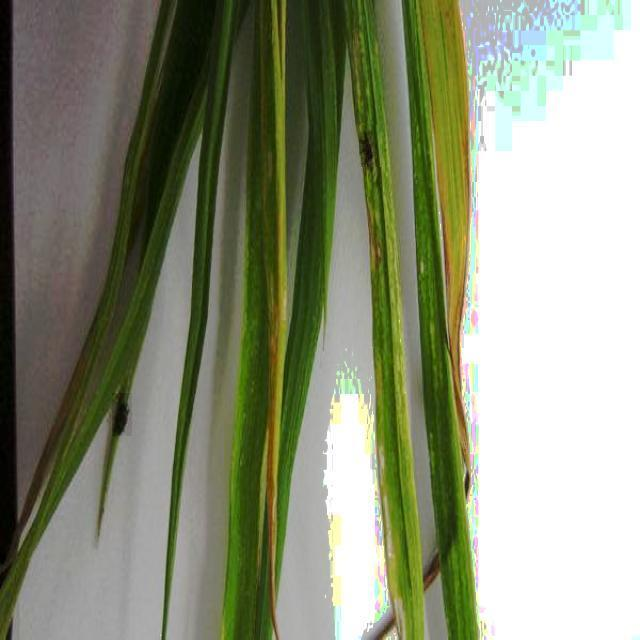rice-bug: (360, 125, 382, 167), (112, 393, 132, 436)
